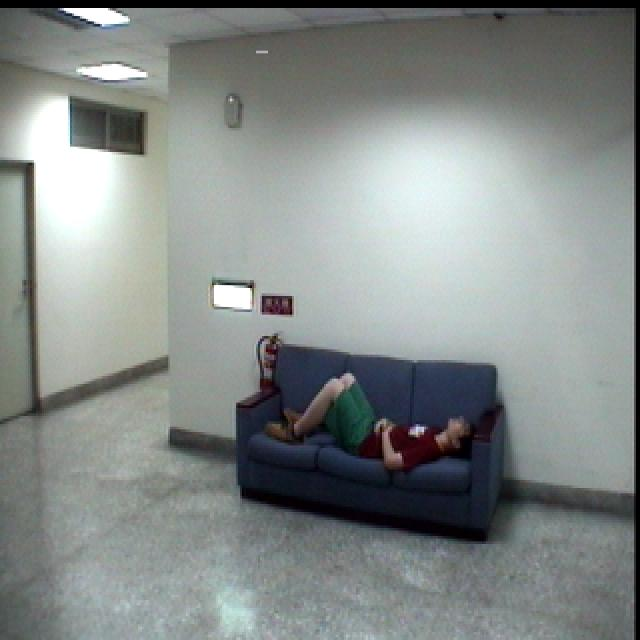lie: (262, 369, 475, 484)
